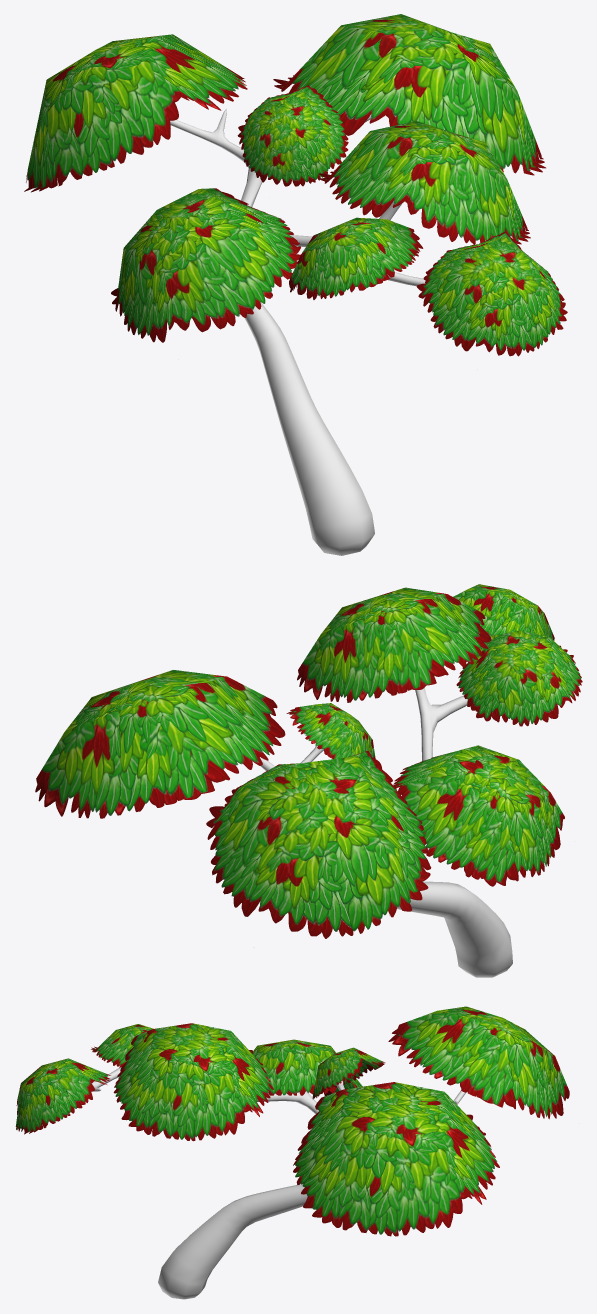
Rendered from RedAndGreenTree.fbx.
The picture shows the model from 3 angles, top to bottom: view 1: azimuth 30°, elevation 25°; view 2: azimuth 150°, elevation 25°; view 3: azimuth 270°, elevation 25°; orthographic projection. The views are drawn at different scales.
Parts seen in each view (by area): view 1: Plane.006; view 2: Plane.006; view 3: Plane.006.
Boxes of the visible parts, <box> form: Plane.006: <box>24,14,567,555</box>; Plane.006: <box>35,584,582,977</box>; Plane.006: <box>15,1006,579,1299</box>.
Bounding box in the file's own units: 880 × 714 × 1245.
